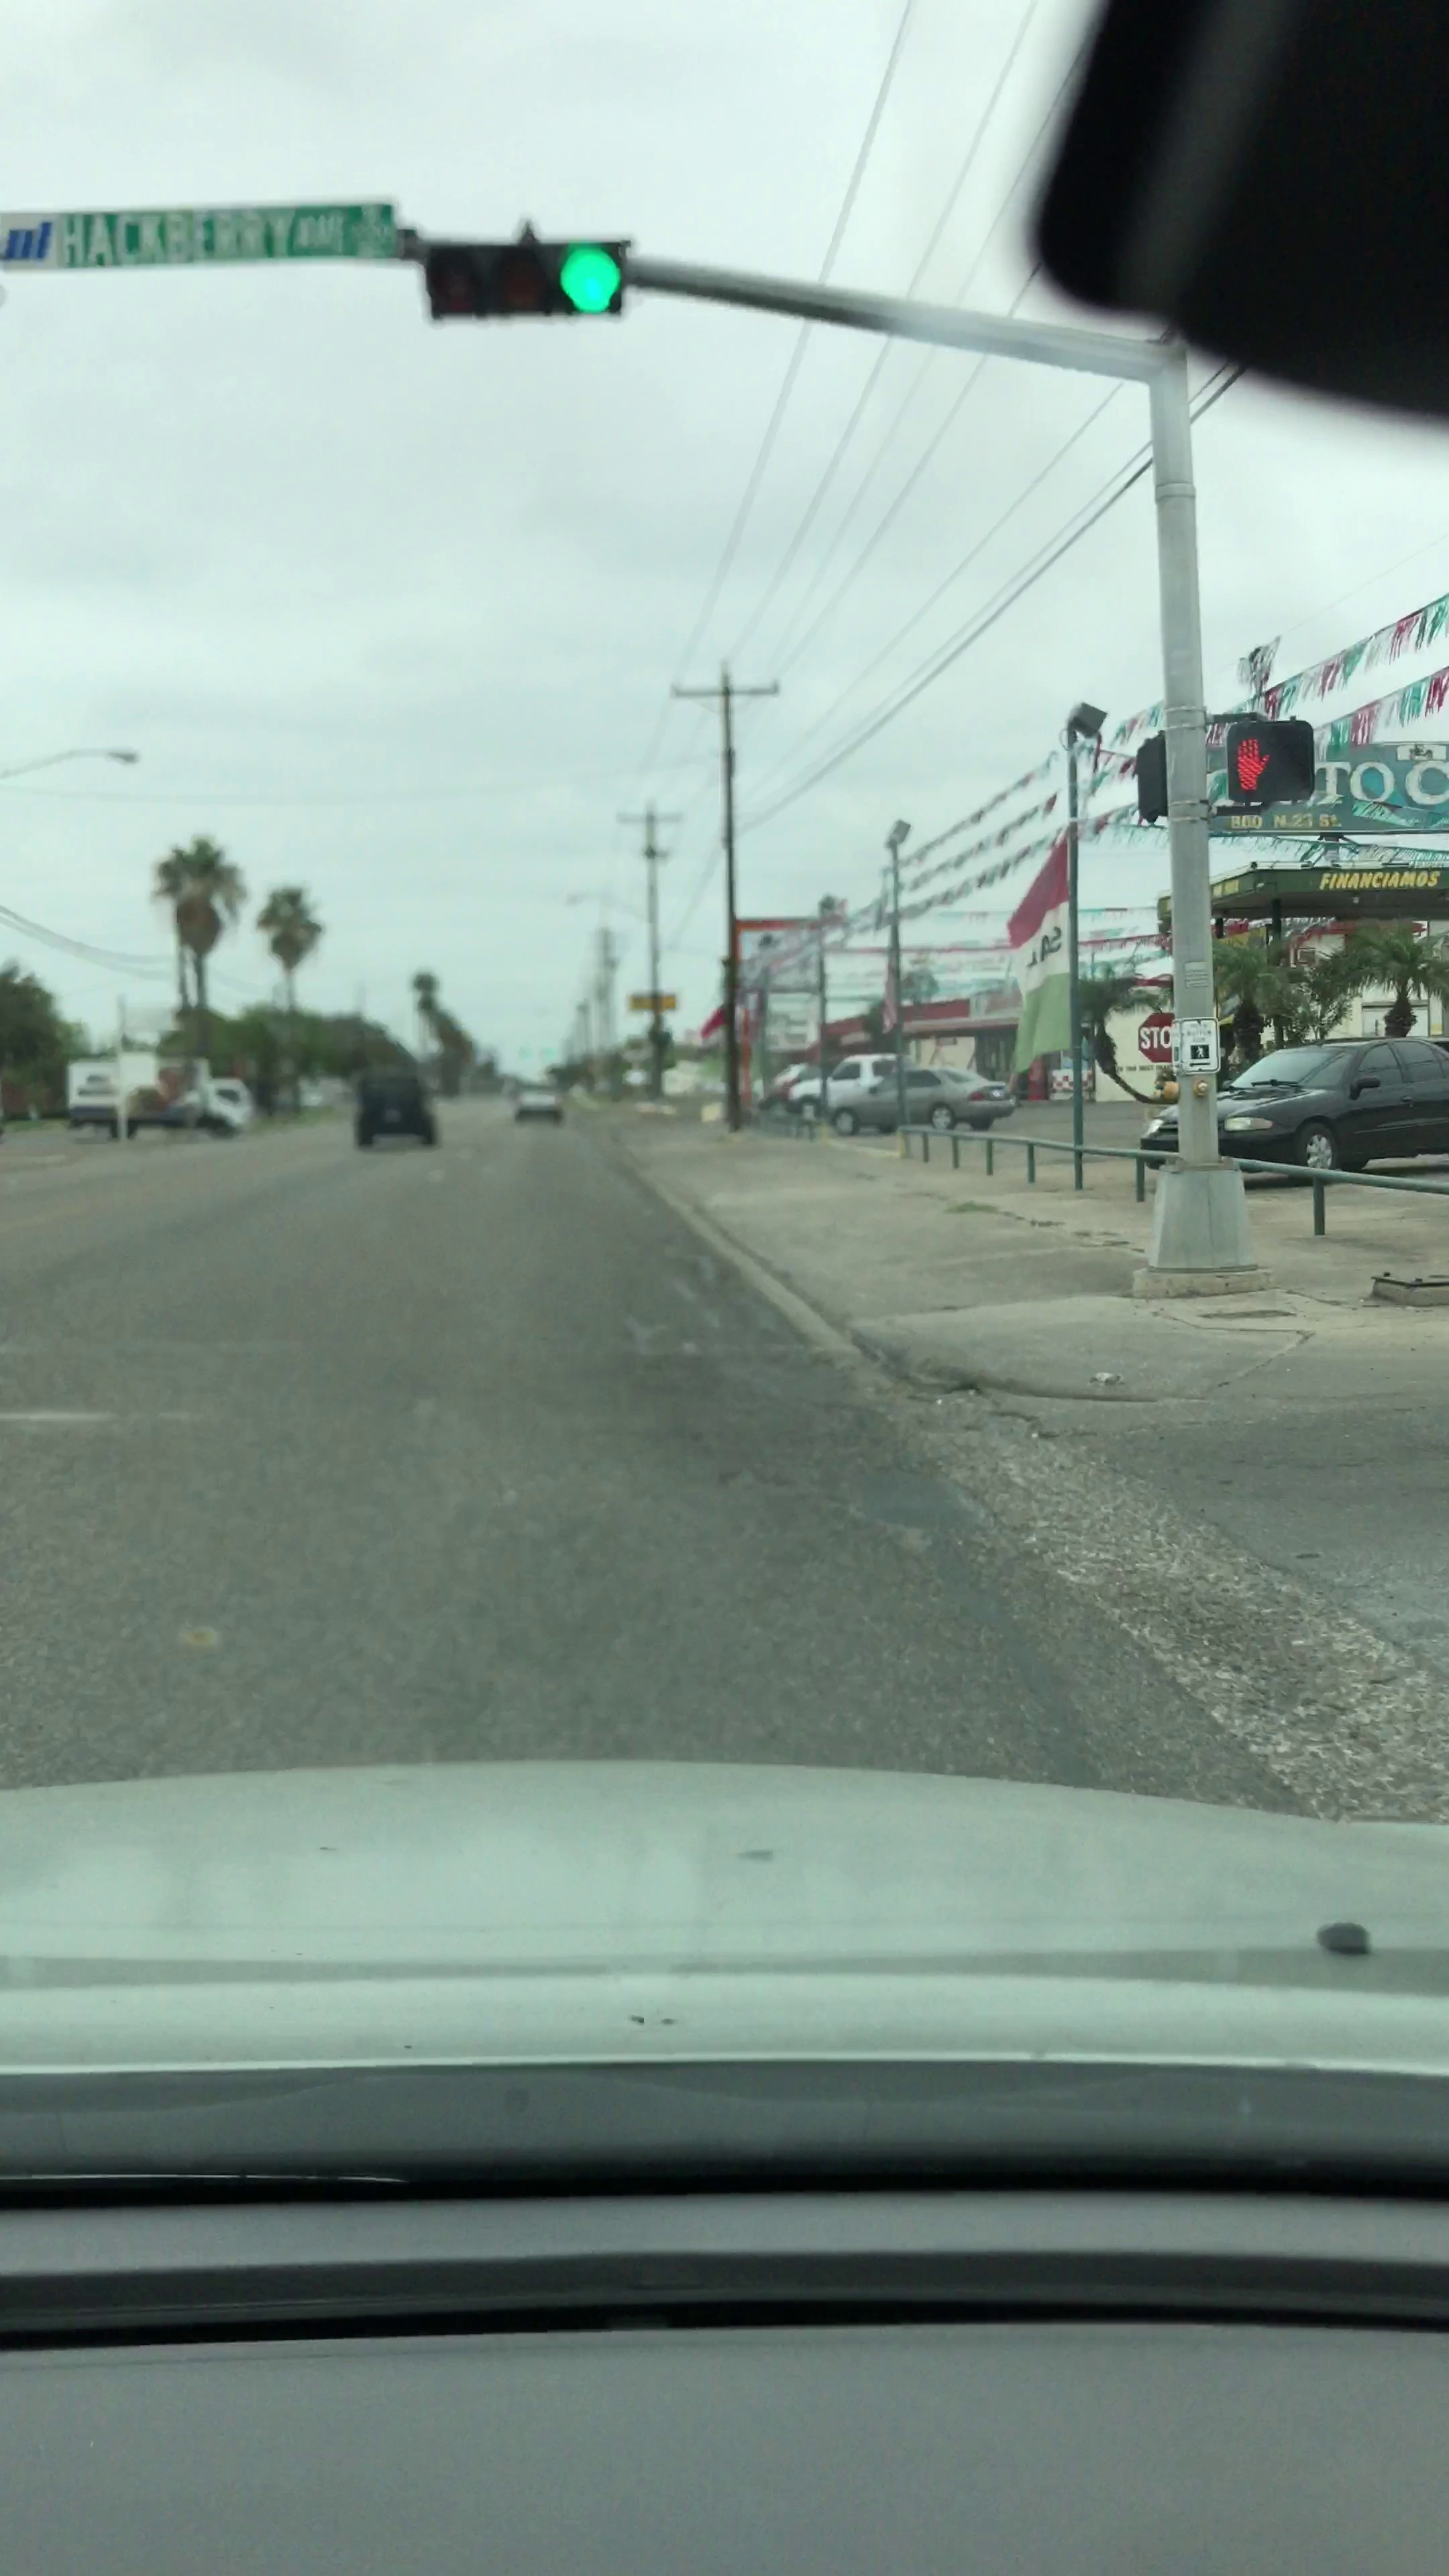blurredLine: (0, 1311, 281, 1477)
